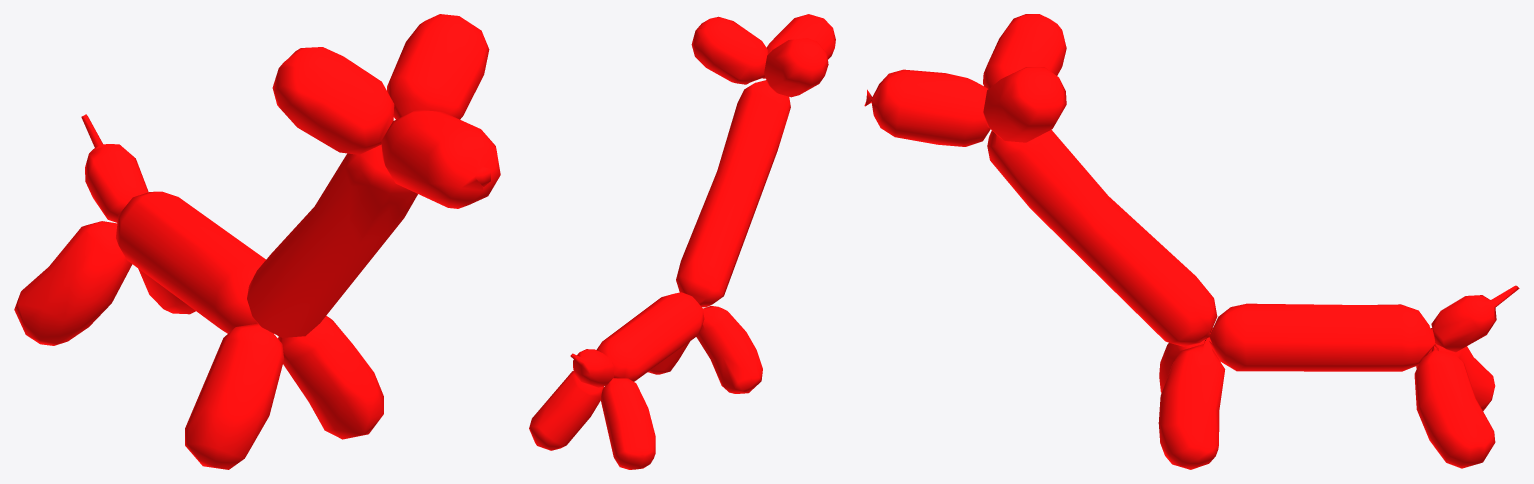
3 views of the same model, side by side, from view 1: azimuth 30°, elevation 25°; view 2: azimuth 150°, elevation 25°; view 3: azimuth 270°, elevation 25° (orthographic). The views are drawn at different scales.
Parts seen in each view (by area): view 1: BalloonAnimalTallRed; view 2: BalloonAnimalTallRed; view 3: BalloonAnimalTallRed.
Boxes of the visible parts, <box> form: BalloonAnimalTallRed: <box>14,14,500,469</box>; BalloonAnimalTallRed: <box>529,14,835,469</box>; BalloonAnimalTallRed: <box>864,14,1519,469</box>.
Size of what is drawn, in the model's own units: 0.2693 by 0.6135 by 0.9162.
Materials: 1 (1 with a texture image).
